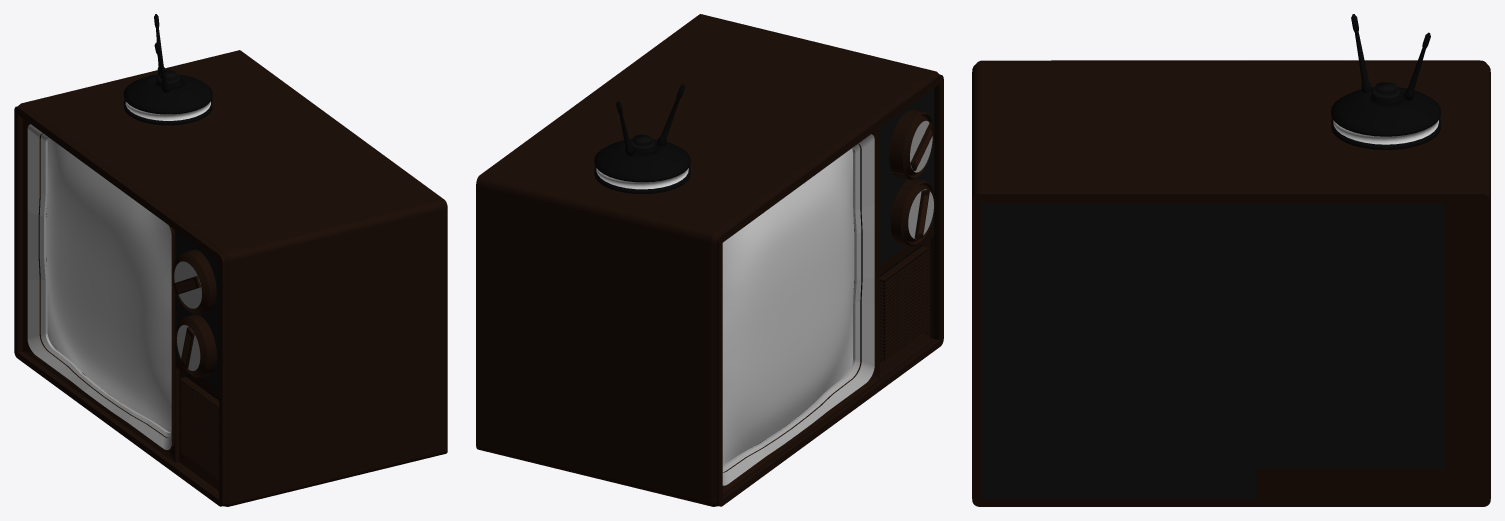
Rendered from uploads_files_3392554_tv.obj.
3 renders of one model, left to right at view 1: azimuth 30°, elevation 25°; view 2: azimuth 150°, elevation 25°; view 3: azimuth 270°, elevation 25°, orthographic. The views are drawn at different scales.
Parts seen in each view (by area): view 1: Cube.002, Cube.001, Cylinder.003; view 2: Cube.002, Cube.001, Cylinder.003; view 3: Cube.002, Cylinder.003.
Part boxes in pixels (x1,y1,x2,y2): Cube.002: (14, 50, 447, 506); Cube.001: (46, 137, 171, 432); Cylinder.003: (123, 14, 212, 125); Cube.002: (476, 14, 943, 506); Cube.001: (722, 148, 854, 465); Cylinder.003: (594, 84, 690, 193); Cube.002: (972, 60, 1490, 506); Cylinder.003: (1331, 14, 1440, 149).
Bounding box in the file's own units: 1.98 × 2.68 × 3.07.
